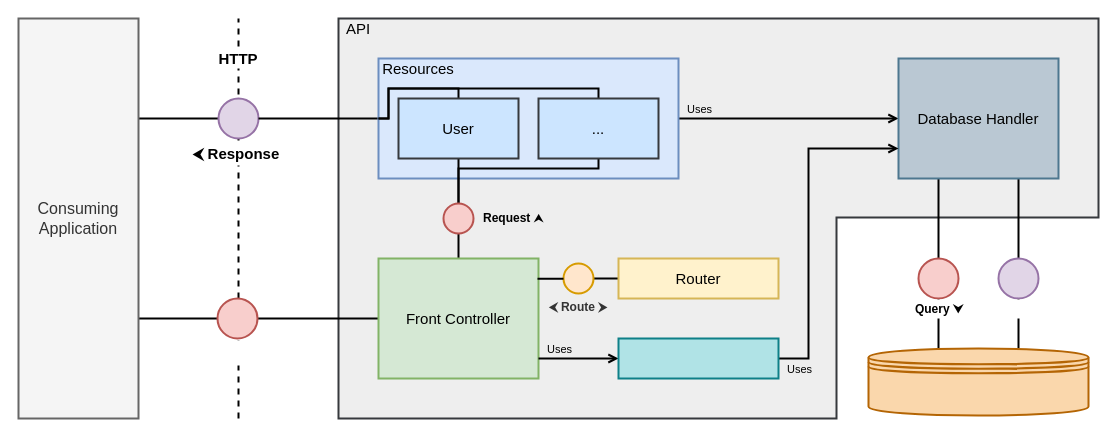
Image size: 1116x437. Some labels were removed from this diagram. The centre of each missing label's shape, as x and y in pixels:
"Authenticator" goes at point 698,358.
"Data ⮝" goes at point 1022,308.
"MySQL Database" goes at point 978,381.
"Request ⮞" goes at point 244,352.
